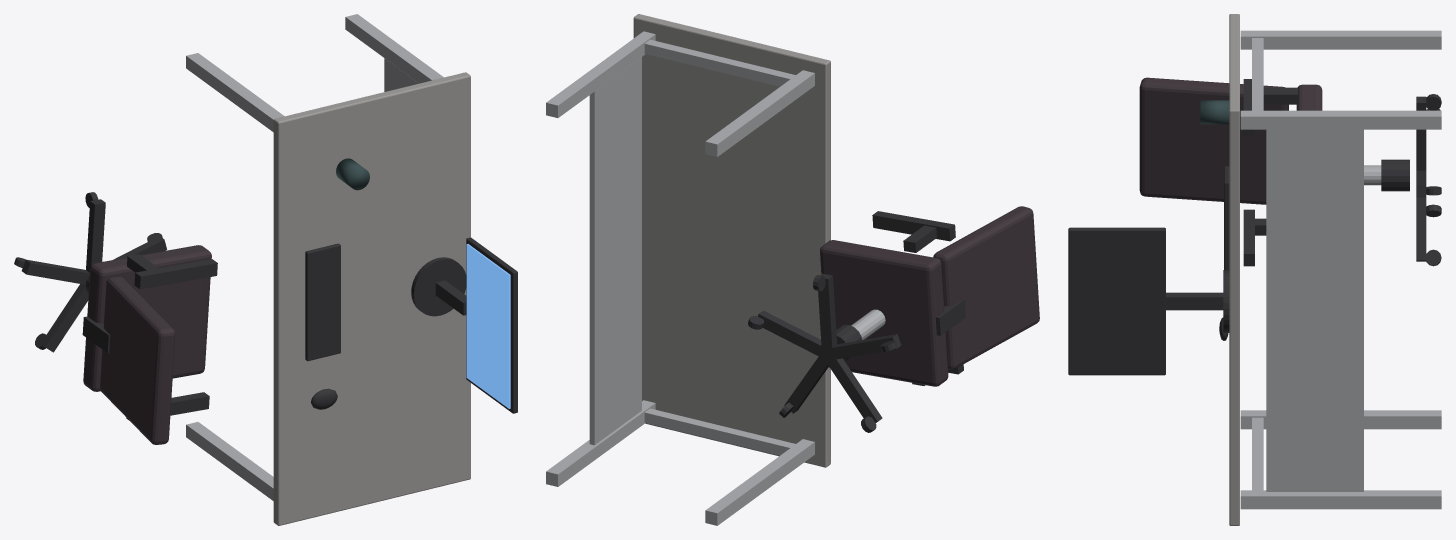
The model's file is podC_workstation0.glb.
The picture shows the model from 3 angles, left to right: view 1: azimuth 30°, elevation 25°; view 2: azimuth 150°, elevation 25°; view 3: azimuth 270°, elevation 25°; orthographic projection. The views are drawn at different scales.
Parts seen in each view (by area): view 1: podC_desk0_top, podC_chair0_back, podC_chair0_seat, podC_mon0_screen, podC_clut0_keyboard, podC_desk0_leg, podC_desk0_leg.002, podC_desk0_leg.001, podC_mon0_base, podC_mon0_panel, podC_chair0_arm.001, podC_chair0_spoke2 (+7 smaller); view 2: podC_desk0_top, podC_desk0_modesty, podC_chair0_seat, podC_chair0_back, podC_desk0_leg, podC_desk0_leg.002, podC_desk0_leg.001, podC_desk0_rail, podC_desk0_rail.001, podC_desk0_leg.003, podC_chair0_arm.001, podC_chair0_spoke2 (+7 smaller); view 3: podC_desk0_modesty, podC_mon0_panel, podC_chair0_back, podC_desk0_top, podC_desk0_leg.001, podC_desk0_leg, podC_desk0_leg.003, podC_desk0_leg.002, podC_mon0_neck, podC_chair0_gas, podC_desk0_rail.001, podC_desk0_rail (+8 smaller).
Boxes of the visible parts, box(x1,y1,x2,y2) form: podC_desk0_top: box(273, 72, 470, 525); podC_chair0_back: box(100, 276, 175, 444); podC_chair0_seat: box(83, 245, 211, 391); podC_mon0_screen: box(466, 244, 510, 408); podC_clut0_keyboard: box(305, 243, 340, 361); podC_desk0_leg: box(186, 53, 284, 132); podC_desk0_leg.002: box(186, 422, 273, 500); podC_desk0_leg.001: box(345, 14, 443, 83); podC_mon0_base: box(411, 257, 466, 316); podC_mon0_panel: box(466, 237, 517, 413); podC_chair0_arm.001: box(134, 259, 217, 289); podC_chair0_spoke2: box(40, 284, 88, 352); podC_desk0_top: box(633, 14, 830, 467); podC_desk0_modesty: box(589, 57, 641, 445); podC_chair0_seat: box(820, 240, 948, 386); podC_chair0_back: box(933, 206, 1039, 369); podC_desk0_leg: box(705, 70, 814, 156); podC_desk0_leg.002: box(705, 439, 814, 525); podC_desk0_leg.001: box(546, 31, 655, 117); podC_desk0_rail: box(644, 39, 795, 86); podC_desk0_rail.001: box(644, 408, 795, 455); podC_desk0_leg.003: box(546, 400, 655, 486); podC_chair0_arm.001: box(872, 211, 955, 241); podC_chair0_spoke2: box(826, 355, 882, 422); podC_desk0_modesty: box(1266, 129, 1363, 491); podC_mon0_panel: box(1068, 227, 1165, 375); podC_chair0_back: box(1139, 77, 1288, 204); podC_desk0_top: box(1229, 14, 1239, 525); podC_desk0_leg.001: box(1240, 110, 1441, 129); podC_desk0_leg: box(1240, 30, 1441, 49); podC_desk0_leg.003: box(1240, 490, 1441, 509); podC_desk0_leg.002: box(1240, 410, 1441, 429); podC_mon0_neck: box(1166, 292, 1223, 310); podC_chair0_gas: box(1381, 159, 1409, 191); podC_desk0_rail.001: box(1252, 417, 1263, 490); podC_desk0_rail: box(1252, 38, 1263, 110).
Size of the model in its own units: 1.49 by 1.6 by 1.3.
